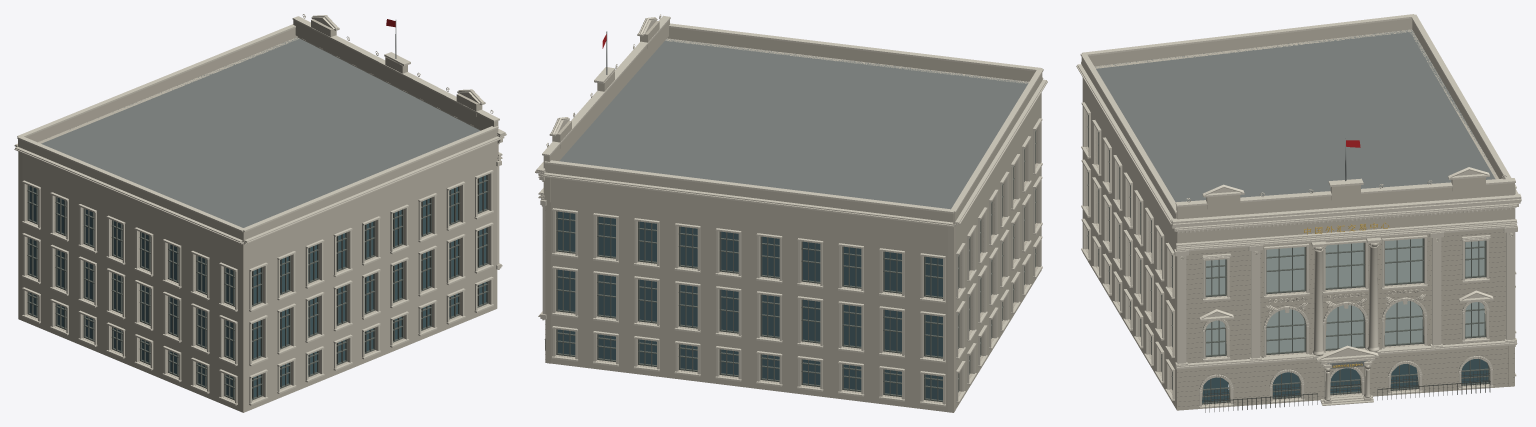
Rendered from bund15.glb.
3 renders of one model, left to right at view 1: azimuth 30°, elevation 25°; view 2: azimuth 150°, elevation 25°; view 3: azimuth 270°, elevation 25°, orthographic. The views are drawn at different scales.
Bounding box in the file's own units: 48.72 × 29 × 45.09.
